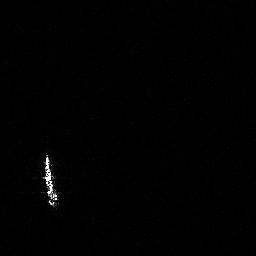ship: (40, 150, 64, 210)
